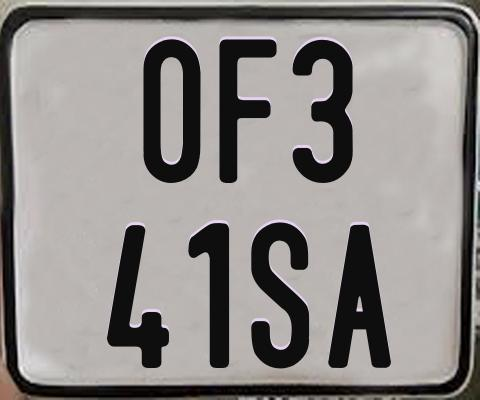0: (142, 37, 205, 182)
1: (188, 223, 235, 368)
3: (289, 37, 352, 185)
4: (107, 222, 170, 369)
A: (327, 225, 391, 374)
F: (217, 39, 275, 187)
S: (249, 222, 313, 375)
